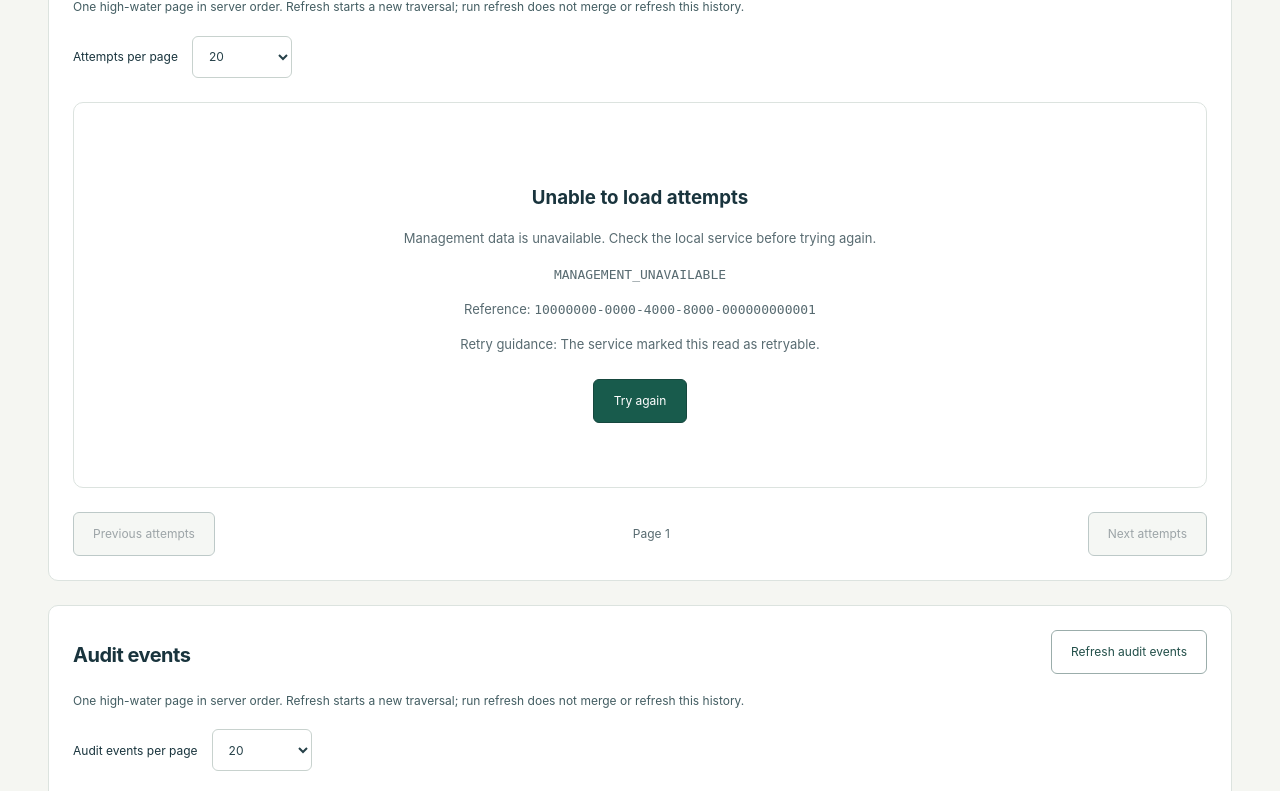
Scenario: read-only run inspection and panel domains › isolates attempts failure/retry and successful empty pages from run detail
(page scrolled)
expect the message that starts with "Unable to load attempts" shows "MANAGEMENT_UNAVAILABLE": met, box x1=554 y1=267 x2=726 y2=282
What coordinates should you click on to do the following:
click the button "Try again"
I would click on:
 (640, 401)
Its box is x1=593 y1=379 x2=687 y2=423.
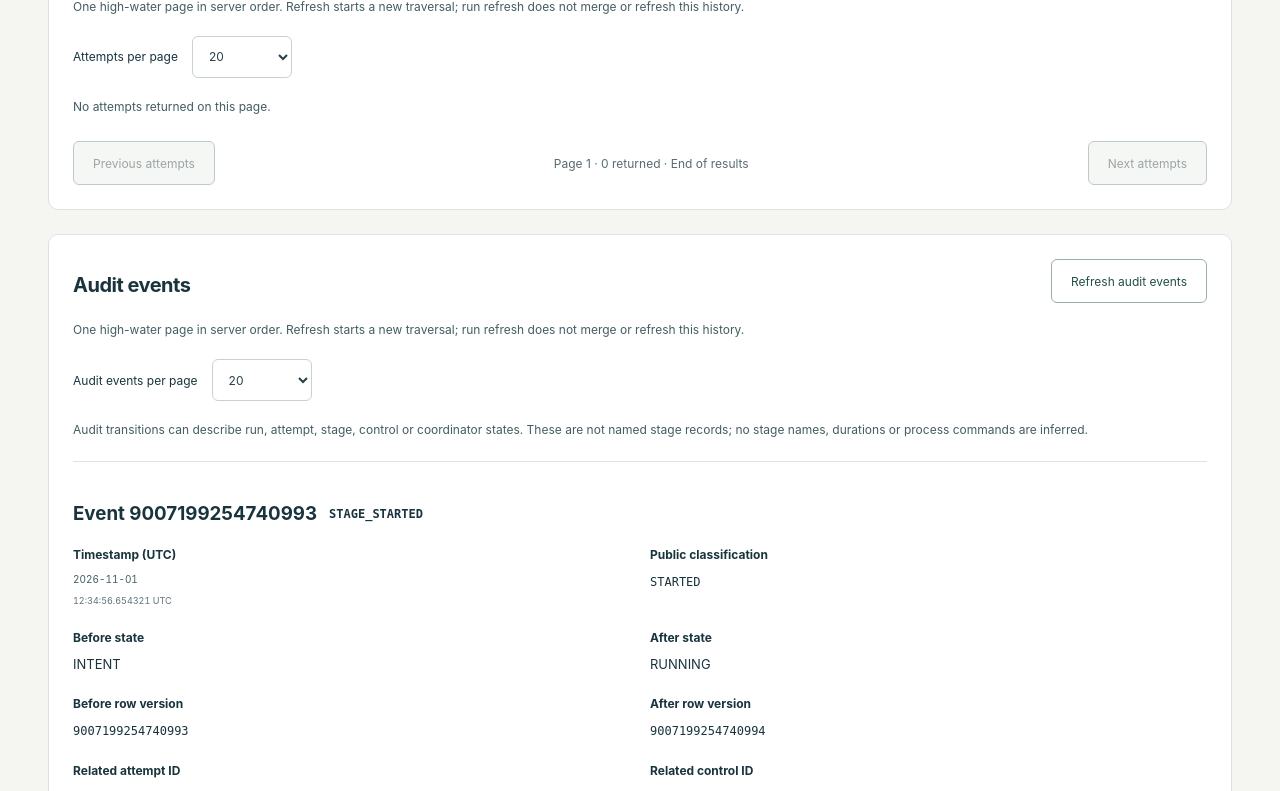
expect the button "Next attempts" is disabled: met, box x1=1088 y1=142 x2=1207 y2=186
expect the text "No attempts returned on this page." is shown: met, box x1=73 y1=99 x2=271 y2=114
